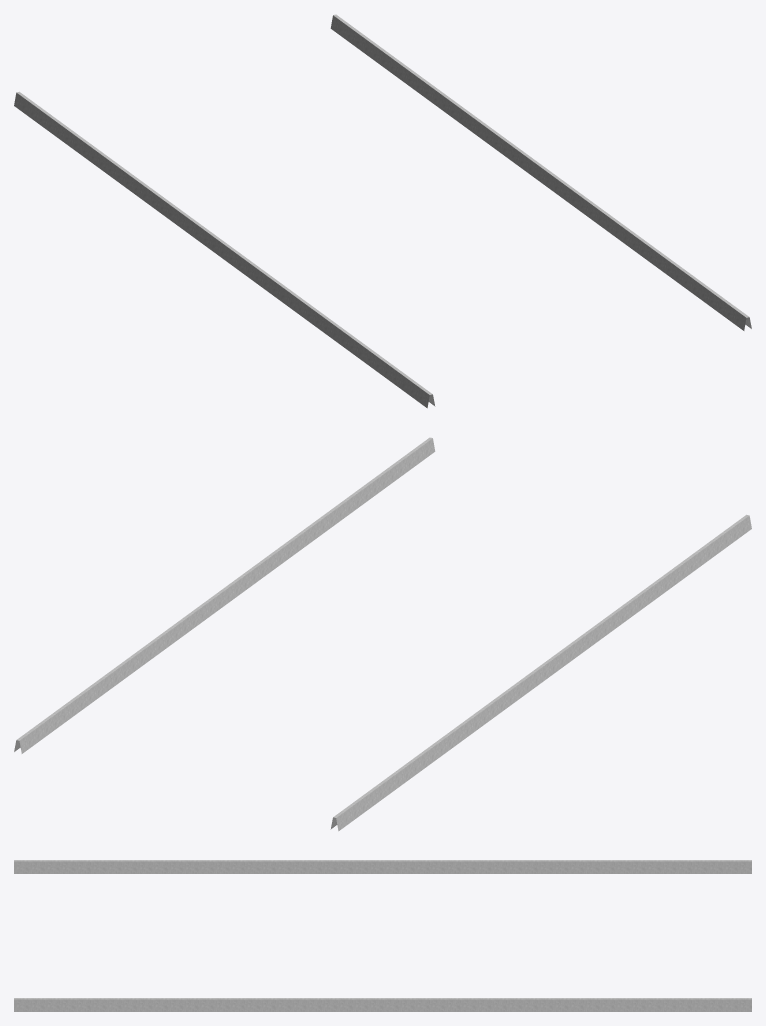
File: cb-lrg-6ls-segment.fbx
3 renders of one model, top to bottom at view 1: azimuth 30°, elevation 25°; view 2: azimuth 150°, elevation 25°; view 3: azimuth 270°, elevation 25°, orthographic. The views are drawn at different scales.
Parts seen in each view (by area): view 1: cb-lrg-6ls-segment; view 2: cb-lrg-6ls-segment; view 3: cb-lrg-6ls-segment.
Boxes of the visible parts, x1,y1,x2,y2 form: cb-lrg-6ls-segment: (14,14,751,408); cb-lrg-6ls-segment: (14,437,751,831); cb-lrg-6ls-segment: (14,860,751,1011).
Bounding box in the file's own units: 2900 × 110 × 6400.
